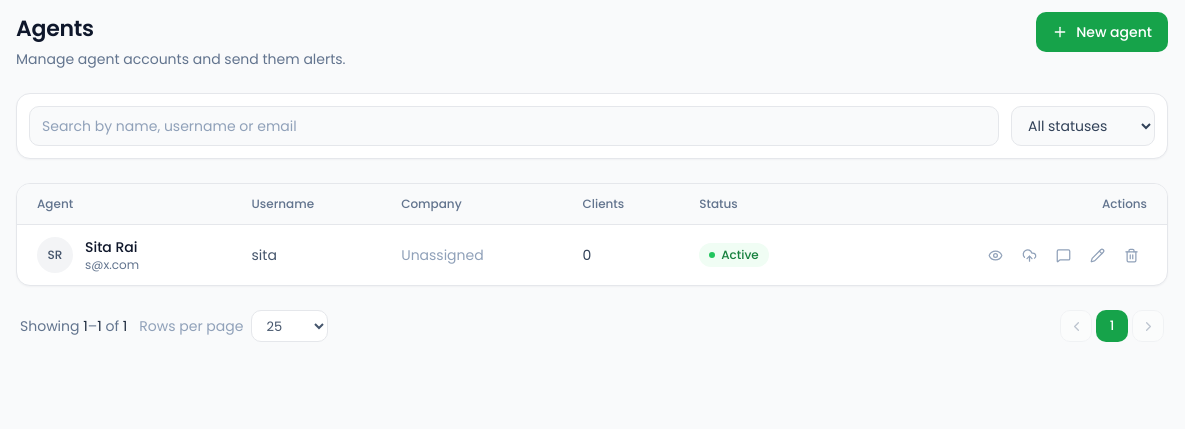
Test: AgentsPage delete › a refused delete is shown to the admin (it used to be an unhandled rejection)
The width and height of the screenshot is (1185, 429).
Click the button named "Delete agent" at (1131, 255), box [1115,239,1147,271]
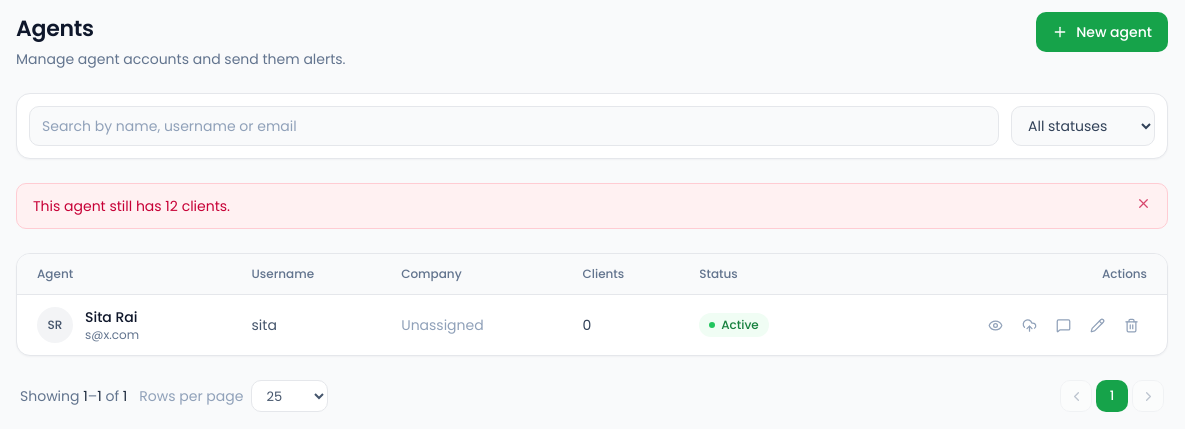
Now the message reads "This agent still has 12 clients.", box [33,196,230,216]
Click the button named "Dismiss" at (1144, 204), box [1128,188,1159,219]
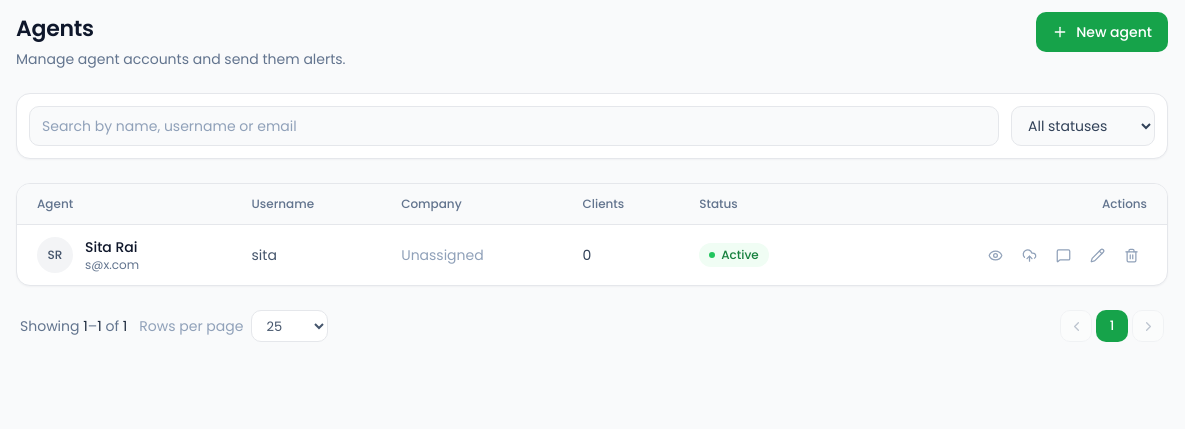
Now the message "This agent still has 12 clients." is gone
